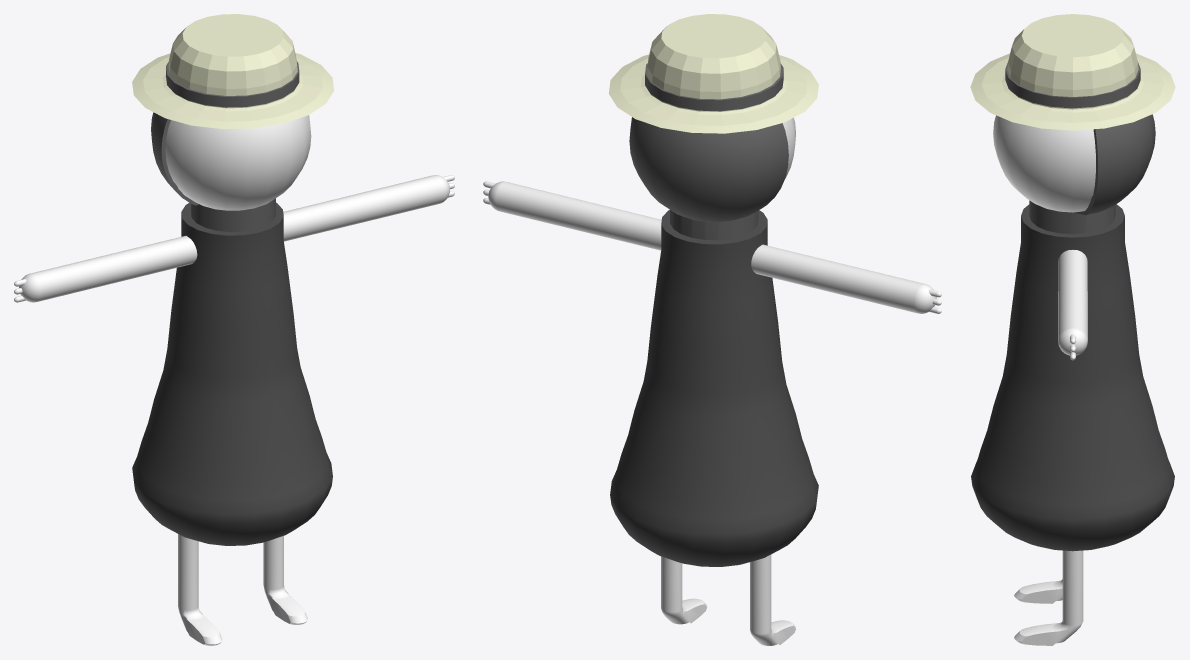
Rendered from asesino.fbx.
The picture shows the model from 3 angles, left to right: view 1: azimuth 30°, elevation 25°; view 2: azimuth 150°, elevation 25°; view 3: azimuth 270°, elevation 25°; orthographic projection. The views are drawn at different scales.
Visible parts, largest first — view 1: pCylinder79; view 2: pCylinder79; view 3: pCylinder79.
Part boxes in pixels (<box>): pCylinder79: <box>14,14,454,645</box>; pCylinder79: <box>483,14,941,645</box>; pCylinder79: <box>970,14,1175,645</box>.
Size of the model in its own units: 49.18 by 61.93 by 19.66.
